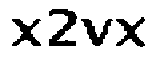2: (46, 7, 78, 49)
v: (81, 13, 112, 50)
x: (116, 14, 148, 50), (9, 17, 41, 50)
